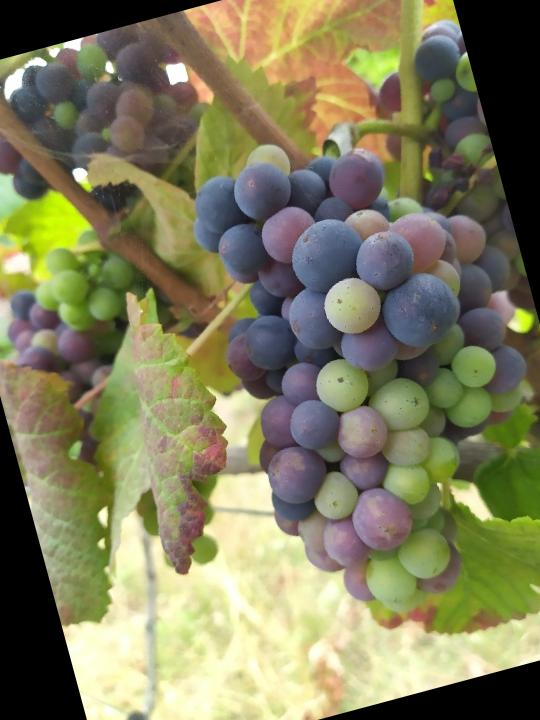grape: (172, 91, 540, 641)
